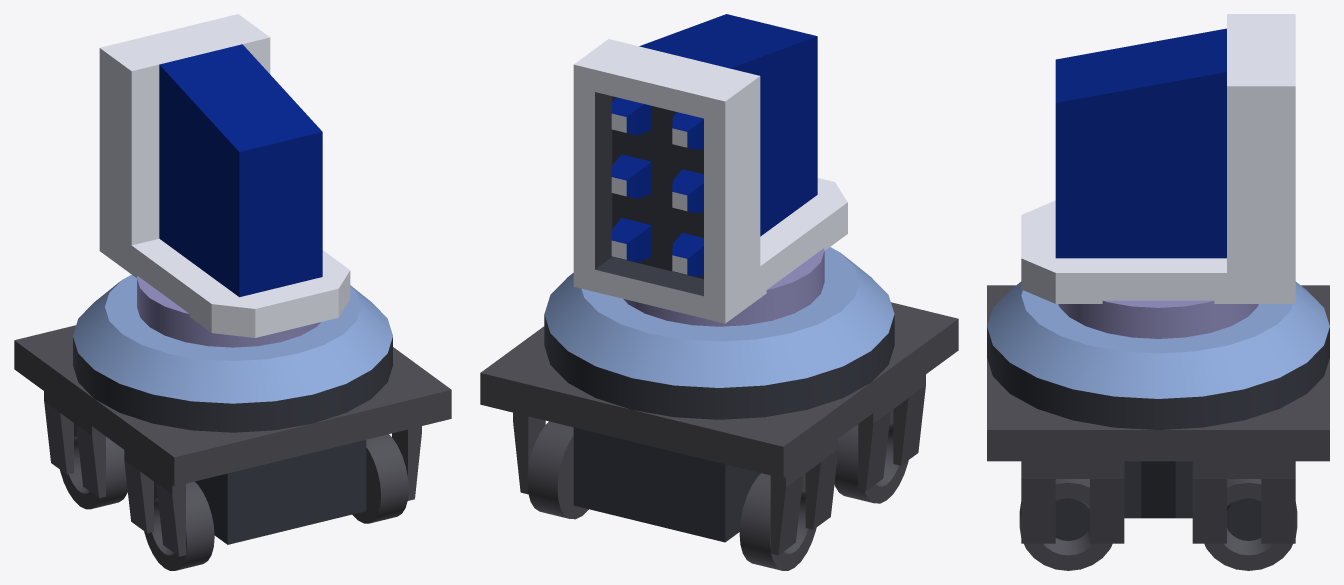
File: turret-large.glb
3 renders of one model, left to right at view 1: azimuth 30°, elevation 25°; view 2: azimuth 150°, elevation 25°; view 3: azimuth 270°, elevation 25°, orthographic. The views are drawn at different scales.
Parts seen in each view (by area): view 1: weapon_turretLarge, bogie_clamp, tank_turretRing, wheel_small (×2); view 2: weapon_turretLarge, bogie_clamp, tank_turretRing, wheel_small (×2); view 3: weapon_turretLarge, tank_turretRing, bogie_clamp, wheel_small (×2).
Boxes of the visible parts, x1,y1,x2,y2 form: weapon_turretLarge: (99,14,350,337); bogie_clamp: (14,325,451,556); tank_turretRing: (73,274,392,432); wheel_small (×2): (60,423,408,570); weapon_turretLarge: (573,14,847,323); bogie_clamp: (480,302,958,555); tank_turretRing: (544,247,894,419); wheel_small (×2): (527,409,908,570); weapon_turretLarge: (1021,14,1295,303); tank_turretRing: (987,281,1329,429); bogie_clamp: (987,285,1329,543); wheel_small (×2): (1019,479,1297,570).
Size of the model in its own units: 0.38 by 0.566 by 0.38.
